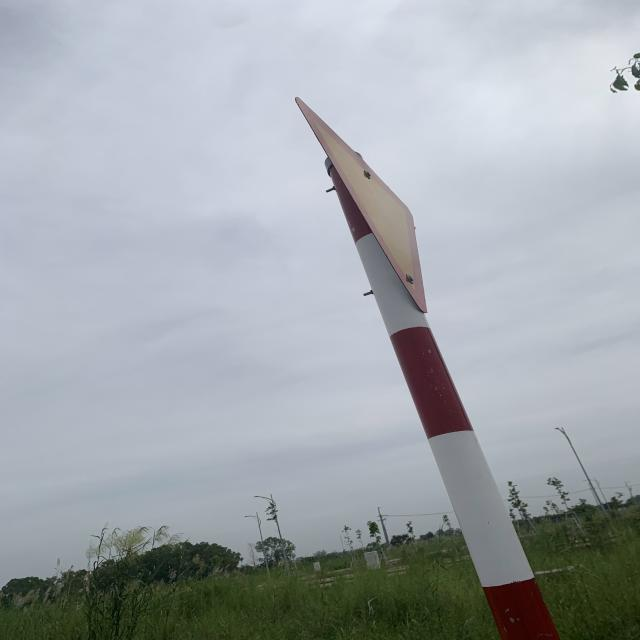Gioi_Han_Toc_Do_25: (294, 95, 428, 313)
